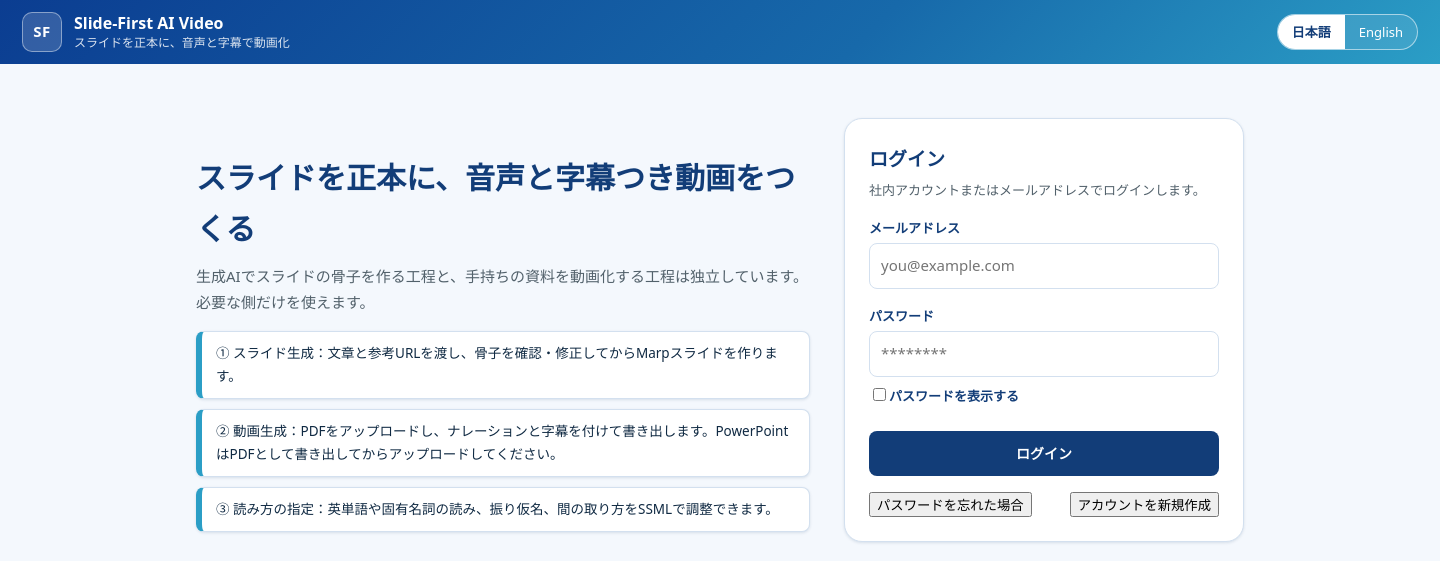
Test: LoginPage › switches to the password reset form when forgot link is clicked
Click the button "パスワードを忘れた場合". click: x=950, y=505
box: [869,492,1032,518]
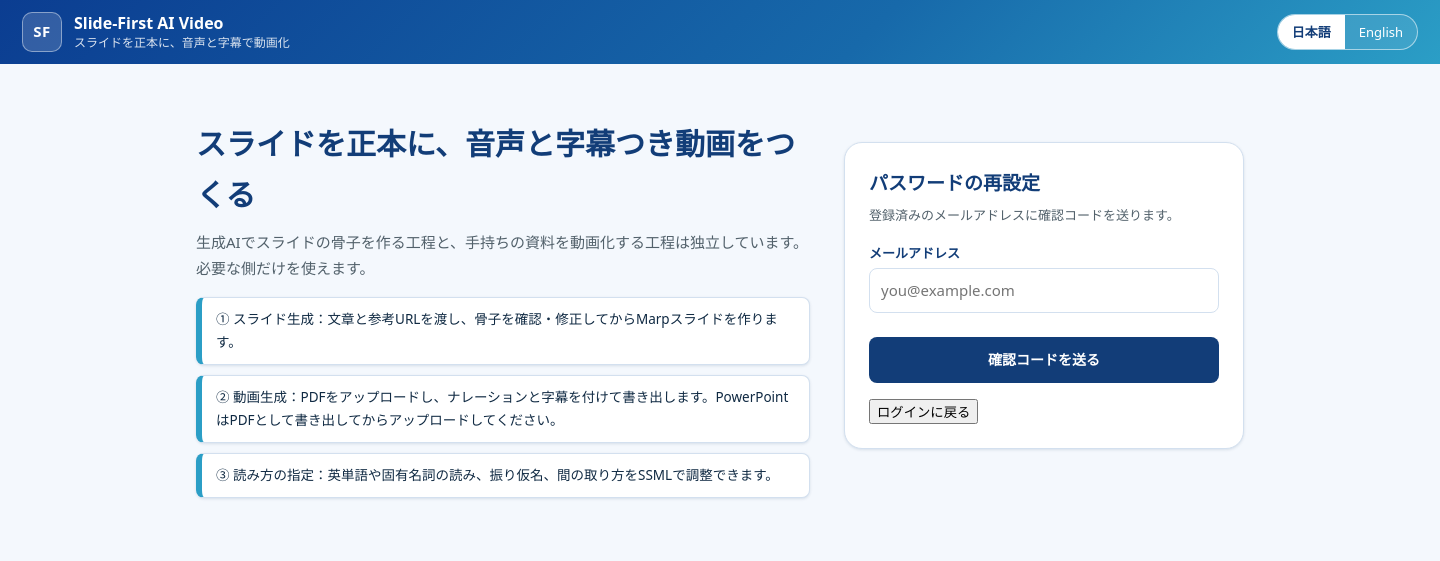
Expected: the text "パスワードの再設定" is shown, [869,170,1040,196]
Expected: the text "確認コードを送る" is shown, [869,337,1219,383]
Expected: the text "ログインに戻る" is shown, [869,399,978,424]
